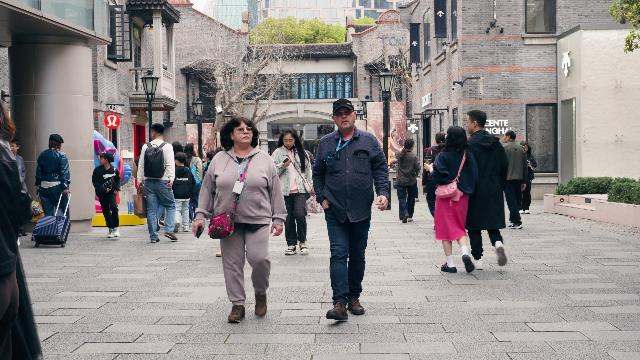person: (199, 102, 288, 346), (312, 98, 390, 321), (423, 125, 480, 274), (465, 110, 510, 271), (271, 127, 316, 256), (135, 123, 179, 244), (34, 133, 71, 217), (502, 130, 528, 230), (92, 152, 122, 238), (394, 138, 421, 223), (422, 131, 447, 219), (171, 152, 196, 233), (132, 144, 146, 210)
